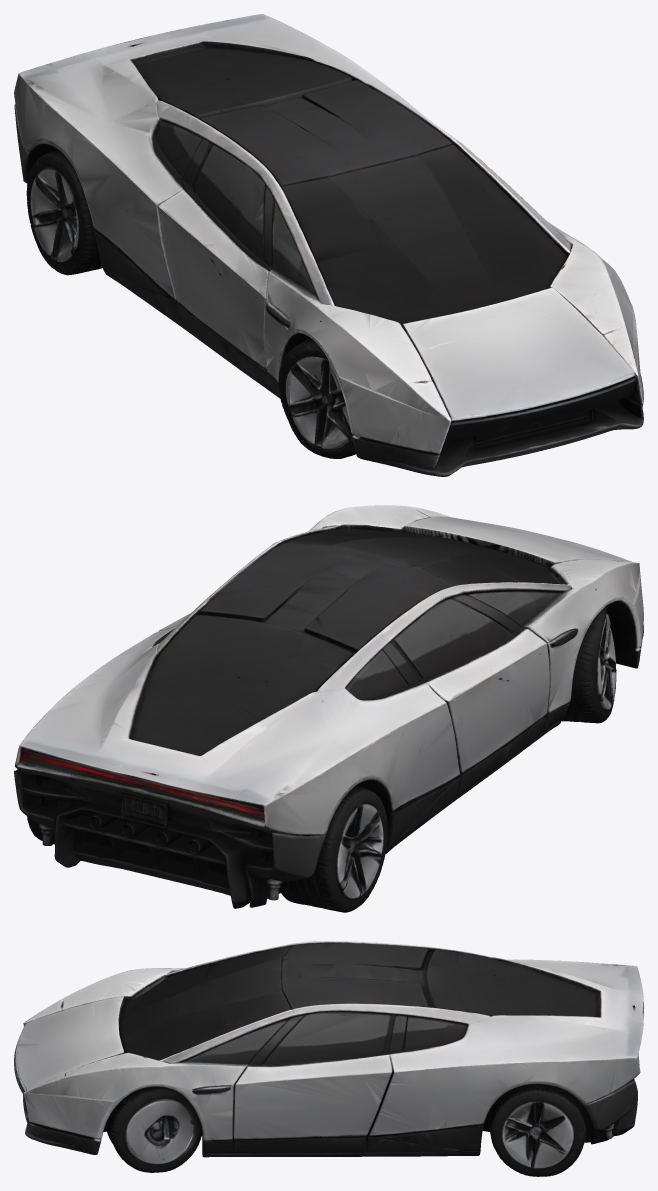
File: roadster-2026.glb
The picture shows the model from 3 angles, top to bottom: view 1: azimuth 30°, elevation 25°; view 2: azimuth 150°, elevation 25°; view 3: azimuth 270°, elevation 25°; orthographic projection. The views are drawn at different scales.
Parts seen in each view (by area): view 1: Object_4; view 2: Object_4; view 3: Object_4.
Part boxes in pixels (x1,y1,x2,y2): Object_4: [14, 14, 643, 476]; Object_4: [14, 505, 643, 912]; Object_4: [14, 941, 643, 1176].
Size of the model in its own units: 0.825 by 0.5011 by 1.9.
Materials: 1 (1 with a texture image).
